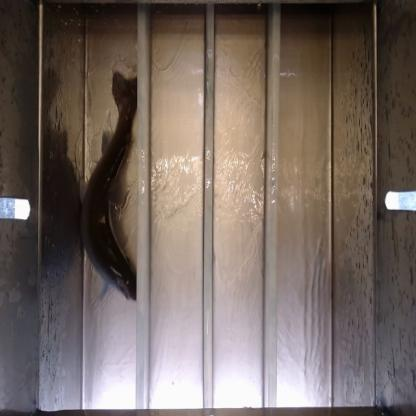pezw: (83, 70, 137, 307)
